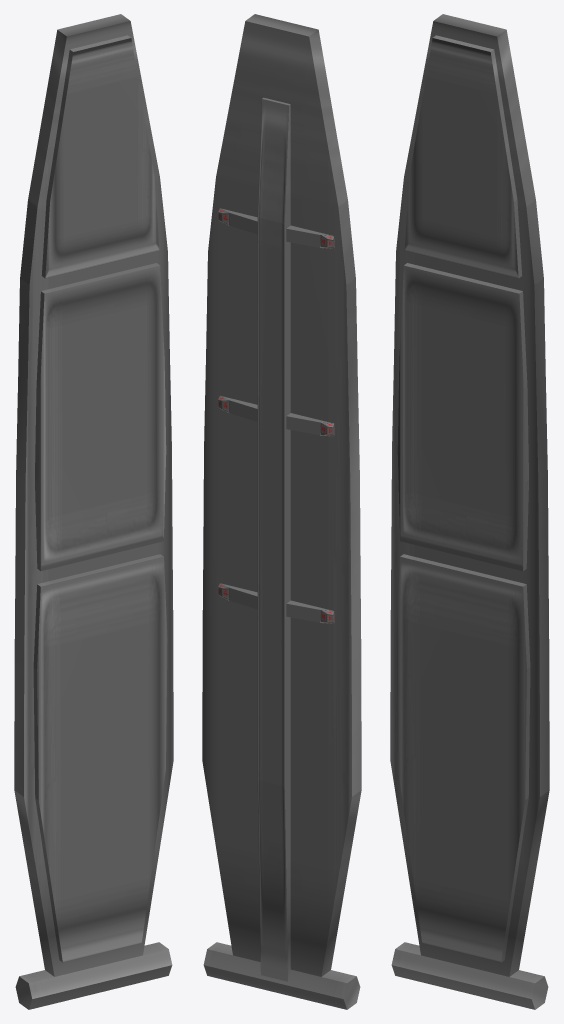
The model's file is antenna.fbx.
3 renders of one model, left to right at view 1: azimuth 30°, elevation 25°; view 2: azimuth 150°, elevation 25°; view 3: azimuth 330°, elevation 25°, orthographic.
Parts seen in each view (by area): view 1: leafPanel.001; view 2: leafPanel.001; view 3: leafPanel.001.
Boxes of the visible parts, left/top/right/bottom form: leafPanel.001: left=14, top=14, right=173, bottom=1009; leafPanel.001: left=202, top=14, right=361, bottom=1009; leafPanel.001: left=390, top=14, right=549, bottom=1009.
Size of the model in its own units: 57.44 by 353 by 12.73.
